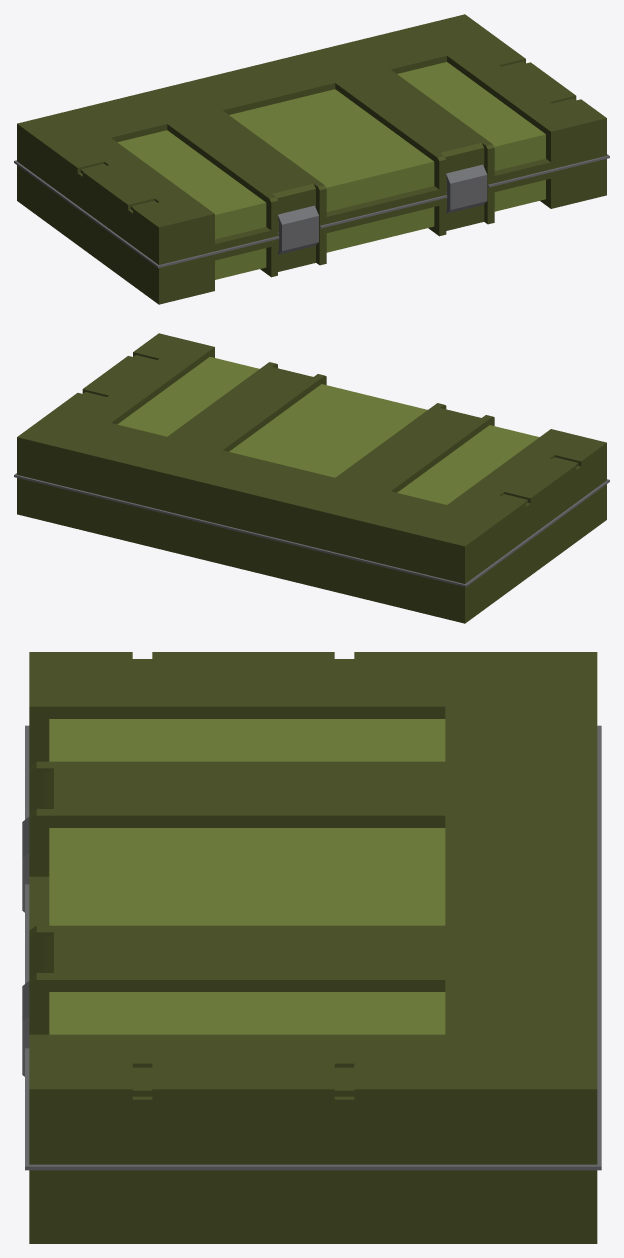
Rendered from Gun Case 1.fbx.
The picture shows the model from 3 angles, top to bottom: view 1: azimuth 30°, elevation 25°; view 2: azimuth 150°, elevation 25°; view 3: azimuth 270°, elevation 25°; orthographic projection. The views are drawn at different scales.
Visible parts, largest first — view 1: Gun_Case1; view 2: Gun_Case1; view 3: Gun_Case1.
Part boxes in pixels (left/top/right/bottom): Gun_Case1: left=14, top=14, right=609, bottom=304; Gun_Case1: left=14, top=333, right=609, bottom=623; Gun_Case1: left=22, top=652, right=601, bottom=1243.
Bounding box in the file's own units: 173 × 28.29 × 96.13.
